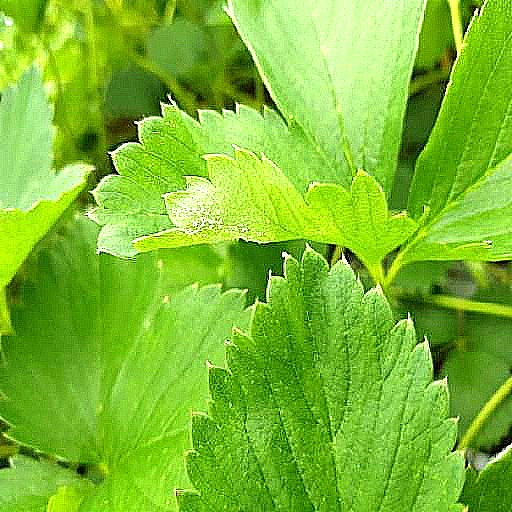Powdery Mildew Leaf: (85, 102, 431, 282)
